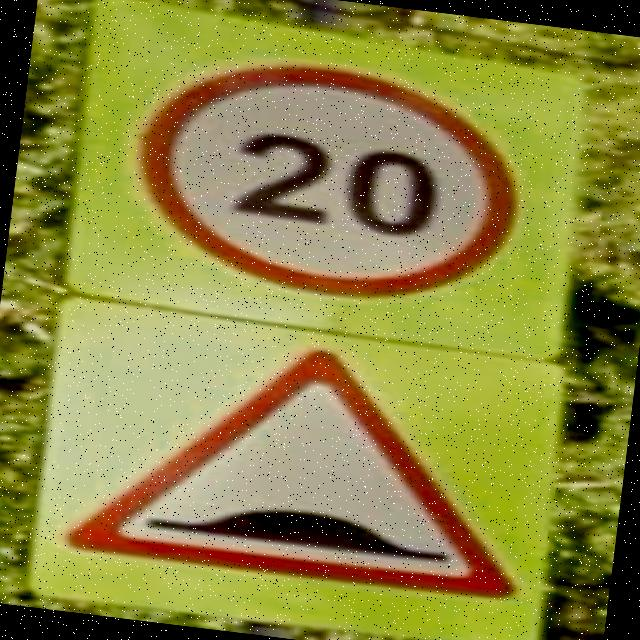Ograniczenie predkosci do 20: (112, 41, 536, 322)
